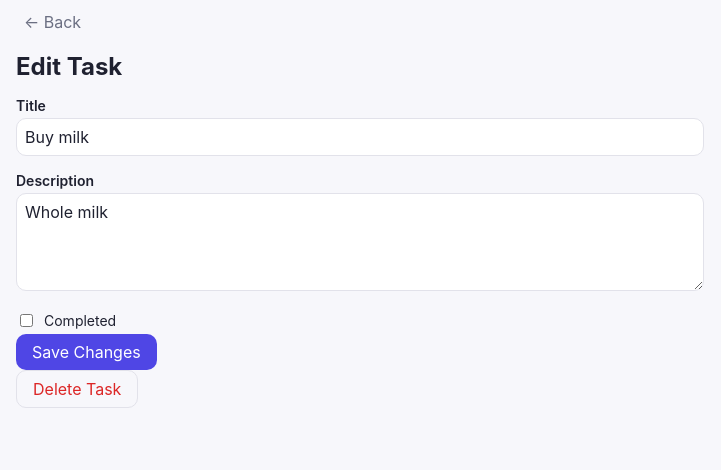
TaskDetailPage › shows an error and keeps the task visible when deleting fails
Expected: the field showing "Buy milk" is shown, [16,118,704,156]
What coordinates should you click on to do the following:
click the button "Delete Task"
I would click on:
 (77, 389)
Its box is [16,370,138,408].
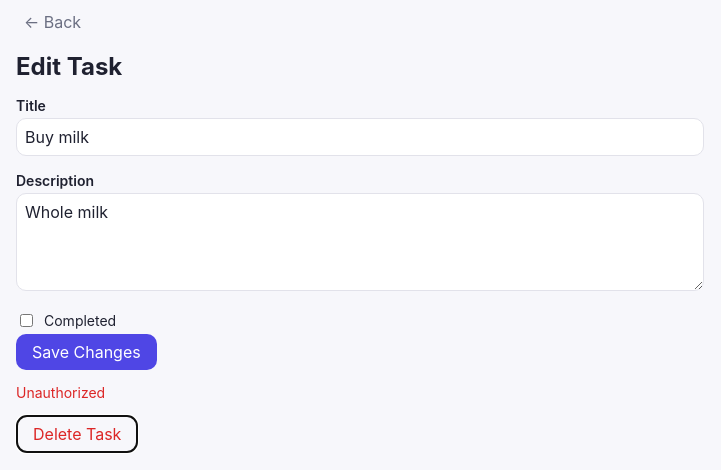
Expected: the field showing "Buy milk" is shown, [16,118,704,156]
Expected: the message reads "Unauthorized", [16,384,105,401]
